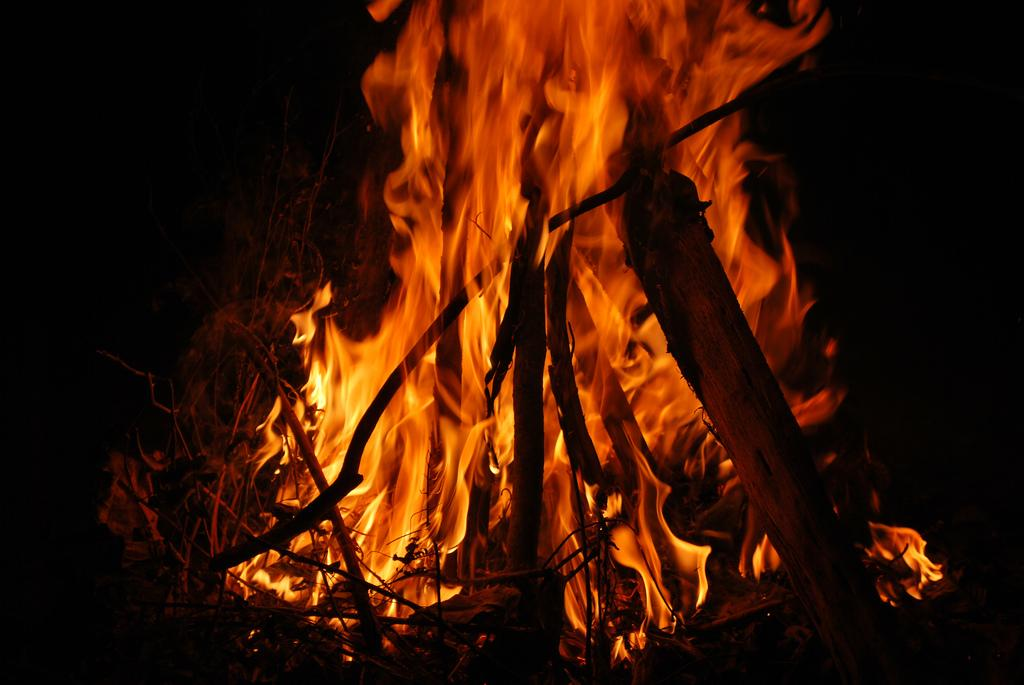fire: (302, 307, 503, 565), (392, 3, 728, 142), (590, 272, 705, 500)
